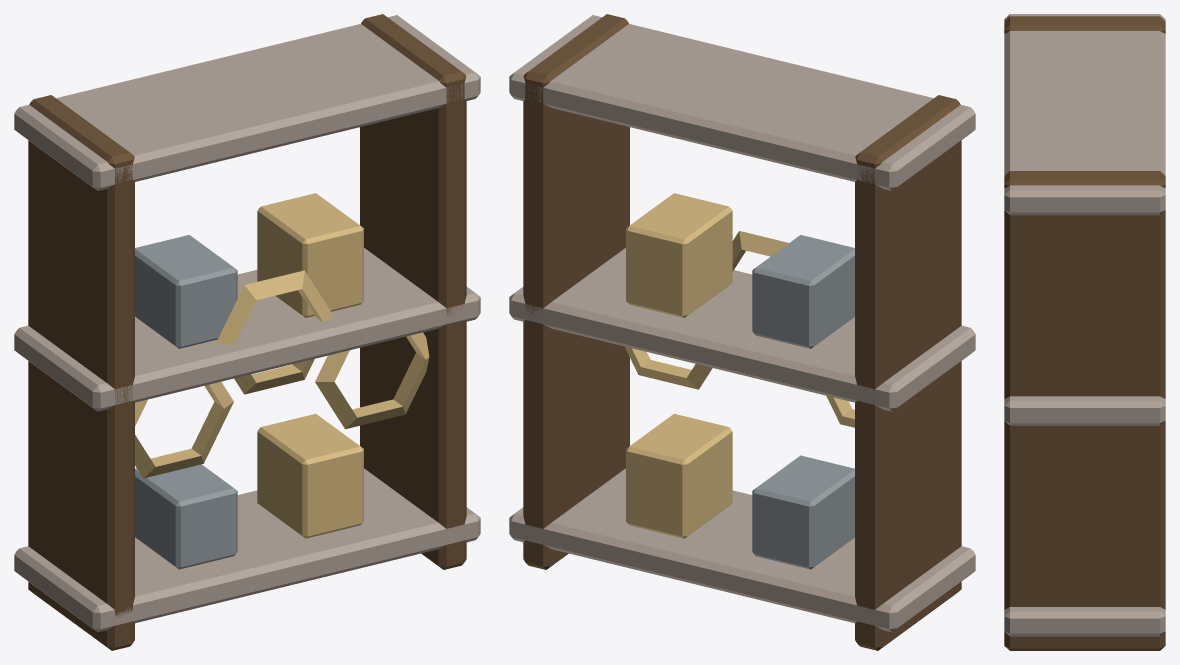
Rendered from town_rope_rack.lod1.glb.
3 renders of one model, left to right at view 1: azimuth 30°, elevation 25°; view 2: azimuth 150°, elevation 25°; view 3: azimuth 270°, elevation 25°, orthographic. The views are drawn at different scales.
Bounding box in the file's own units: 1.38 × 1.68 × 0.52.
